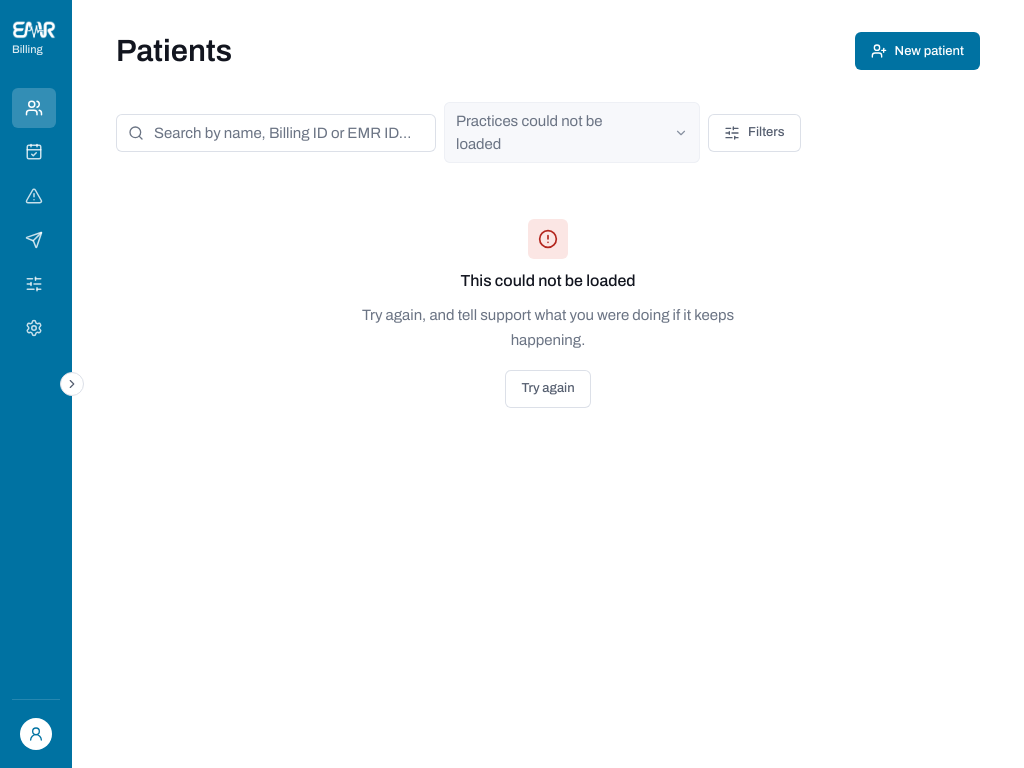
Test: account menu › still offers both actions when who is signed in is not known
Click the button named "Account" at (36, 734), box [12,712,60,756]
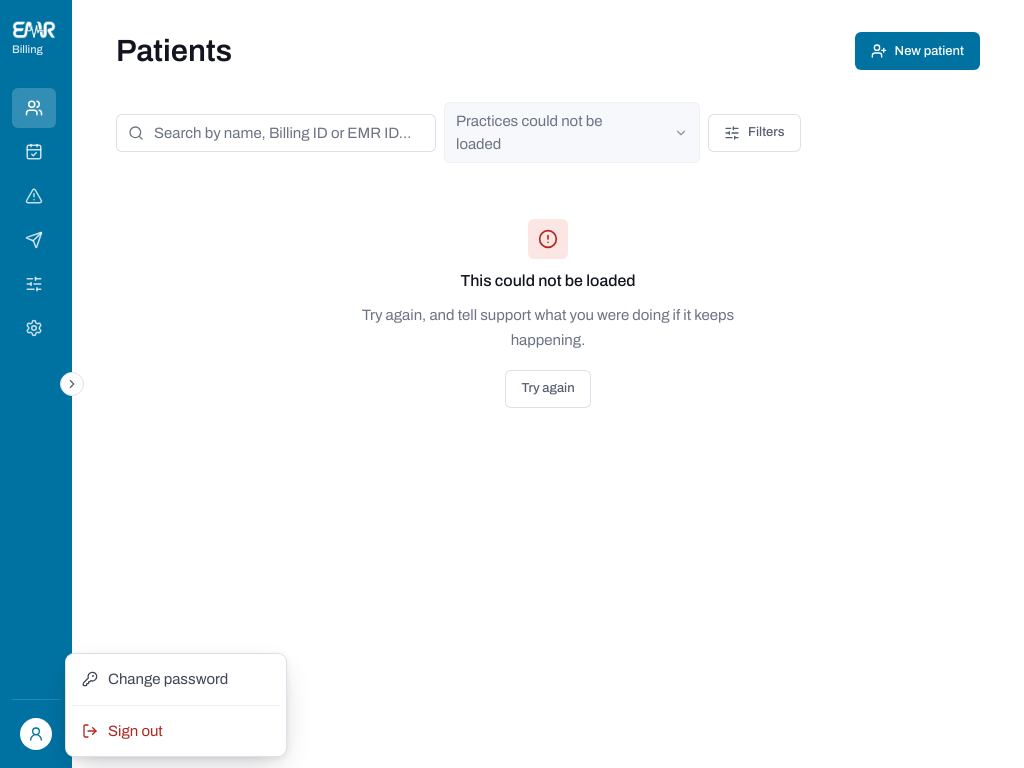
Expected: the menu item "Change password" is shown, [82,671,228,687]
Expected: the menu item "Sign out" is shown, [82,722,163,739]
